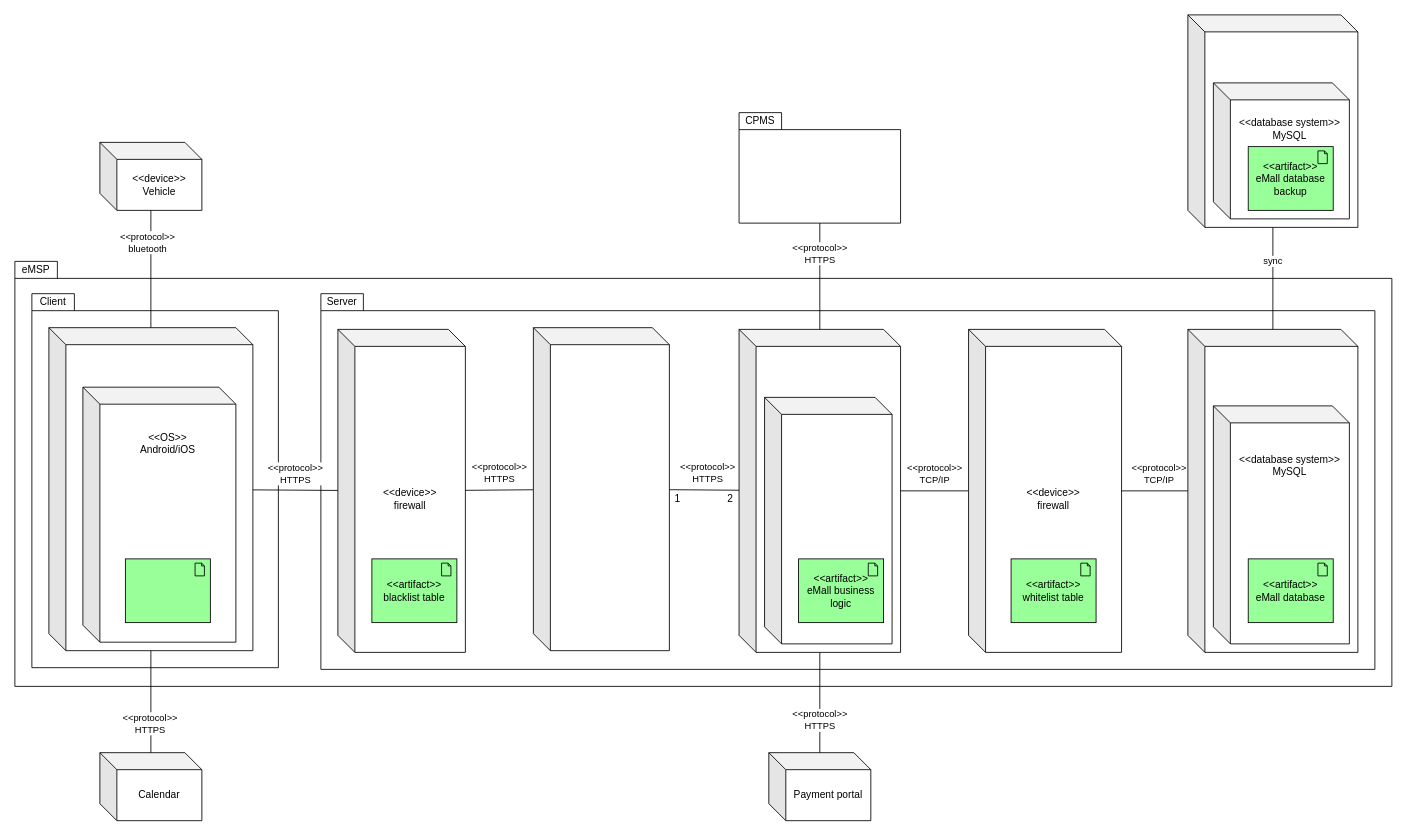
Some shapes in this 1407 by 836 pixel diagram are drawn without their labels. The box of each missing label's shape, as (x1, y1, x2, y2) in pixels:
<<artifact>> eMall client app: (125, 558, 210, 623)
<<device>> Application server: (738, 329, 901, 652)
<<device>> Database server: (1187, 329, 1358, 652)
<<device>> Database server for disaster recovery: (1187, 14, 1358, 227)
<<device>> load balancer: (533, 327, 669, 651)
<<device>> Smartphone: (48, 327, 253, 651)
<<OS>> ubuntu: (764, 397, 892, 644)
